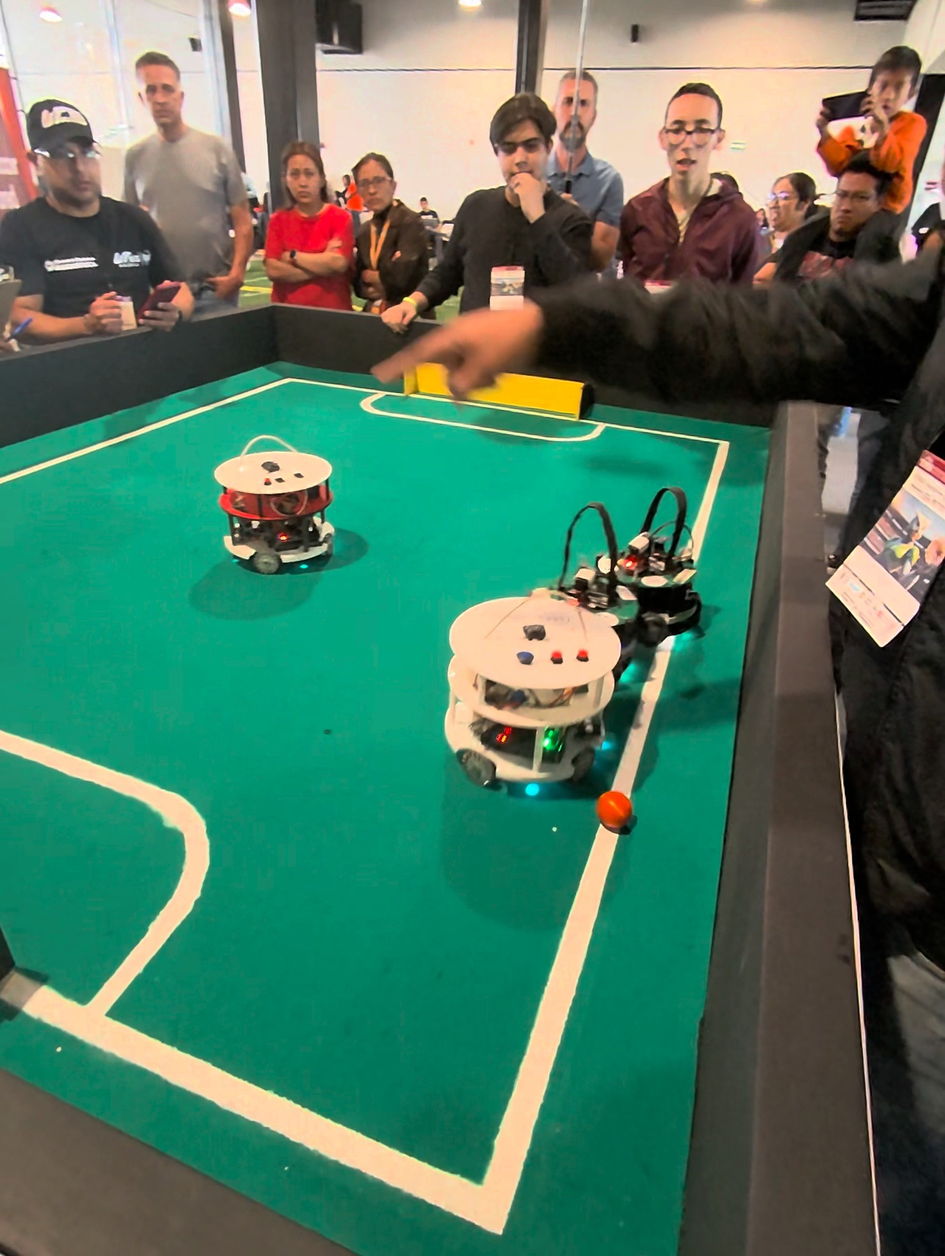Robot: (442, 555, 644, 807), (517, 491, 651, 713), (218, 421, 351, 586), (608, 475, 707, 654)
pelota: (595, 788, 637, 833)
